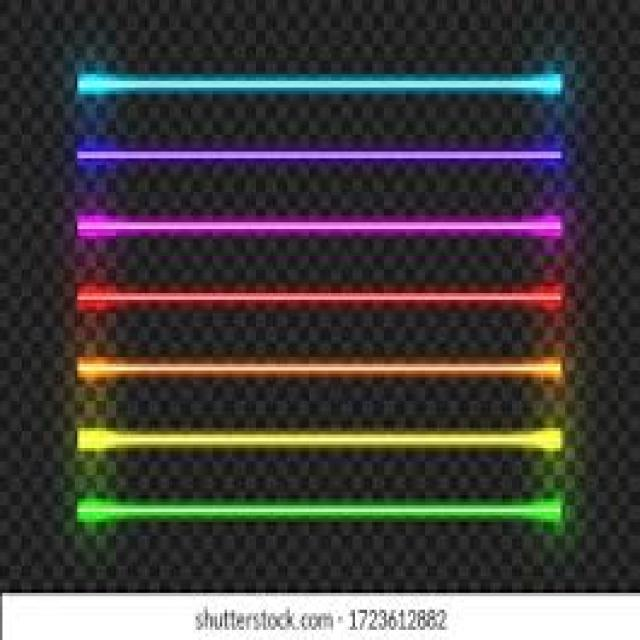tubelight_on: (78, 70, 566, 104), (78, 284, 568, 310), (80, 216, 563, 241), (78, 146, 566, 170), (79, 428, 567, 452), (78, 359, 566, 381), (79, 500, 561, 522)
